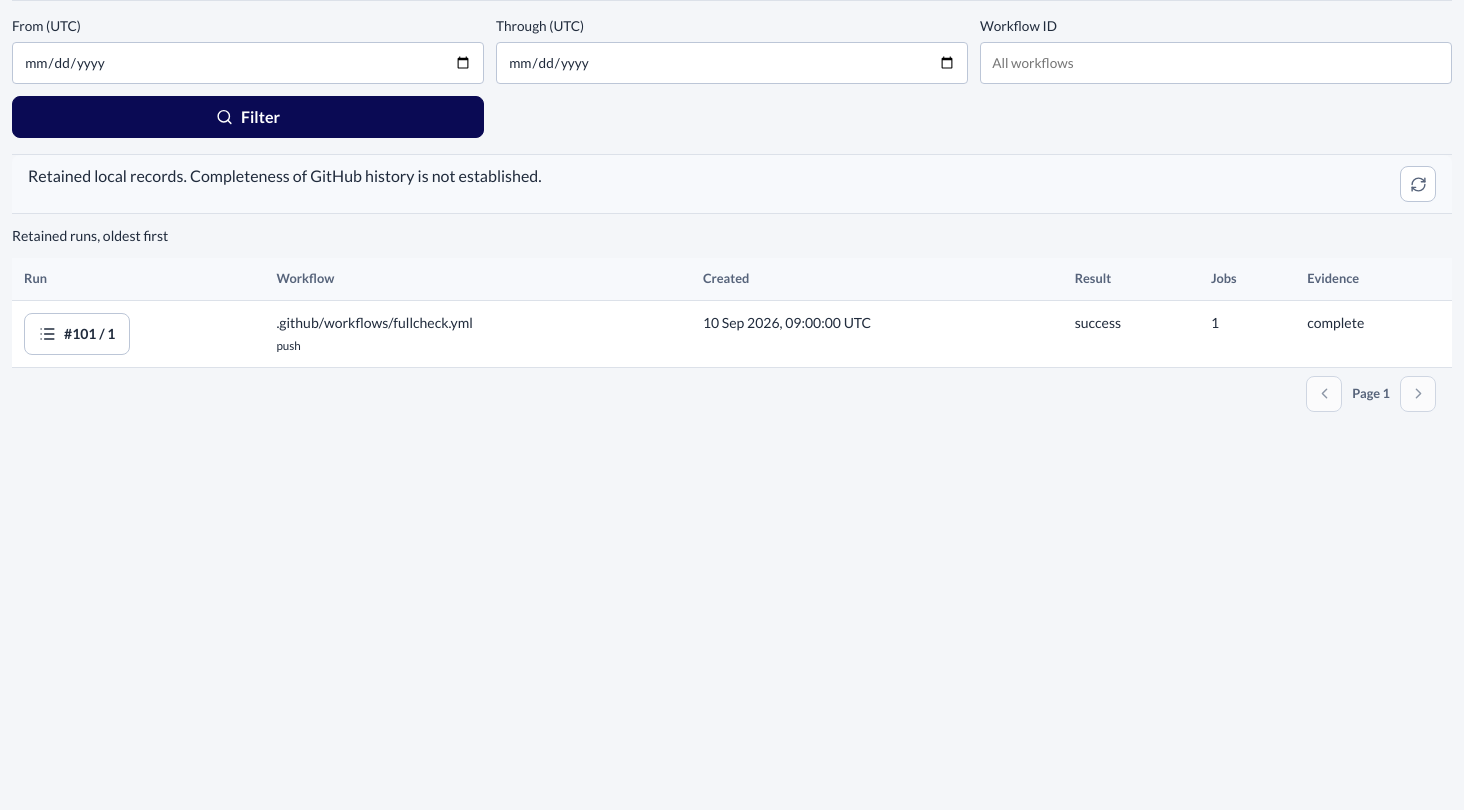
records drill down to job evidence without mutation; inactive reads stop
Click the button "#101 / 1": click(77, 334) x1=24 y1=313 x2=130 y2=355
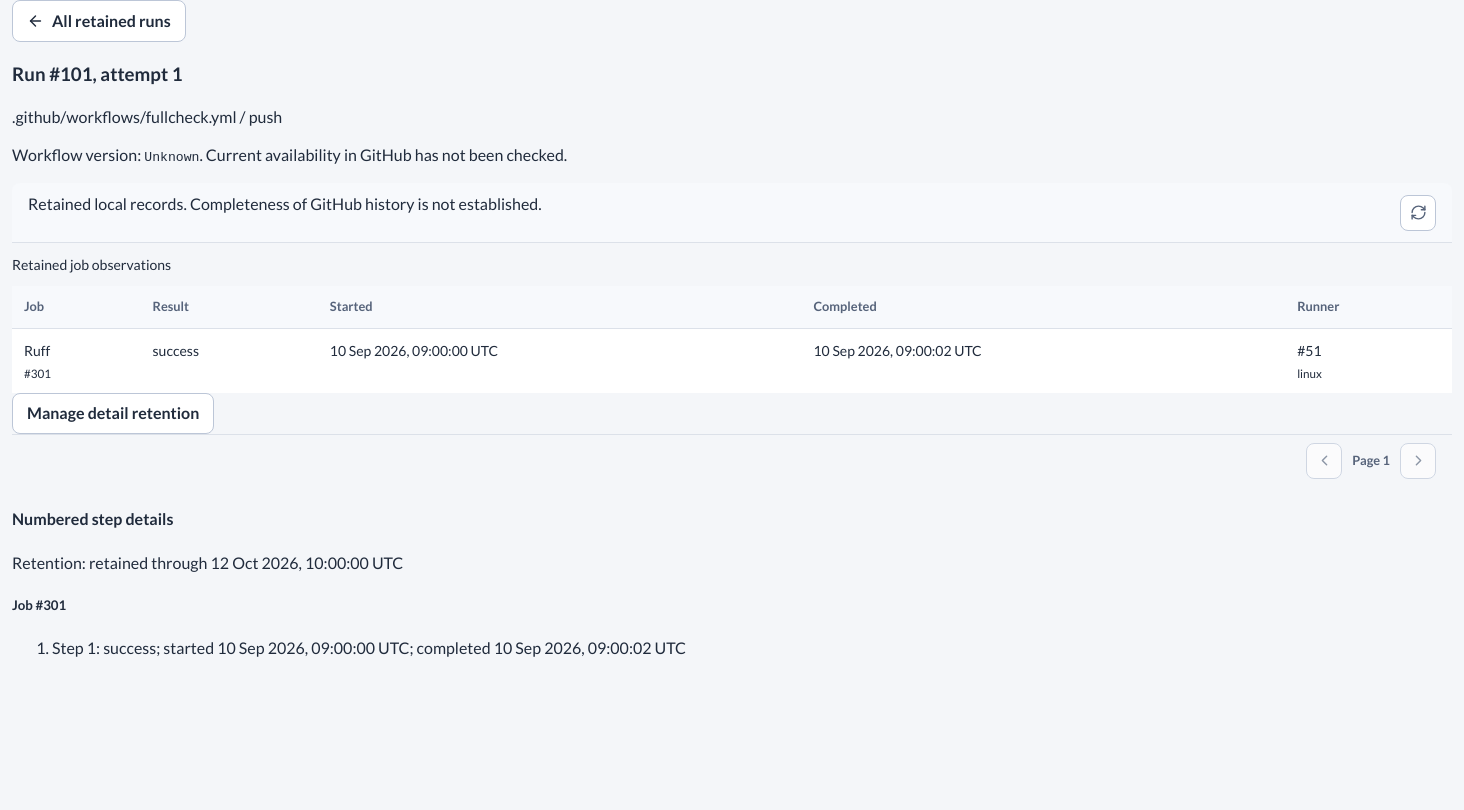
Result: the text "Ruff" is shown at x1=24 y1=342 x2=50 y2=359
Result: the list item "Step 1: success" is shown at x1=52 y1=638 x2=686 y2=657
Click the button "Manage detail retention": click(113, 413) x1=12 y1=393 x2=214 y2=434
(page scrolled)
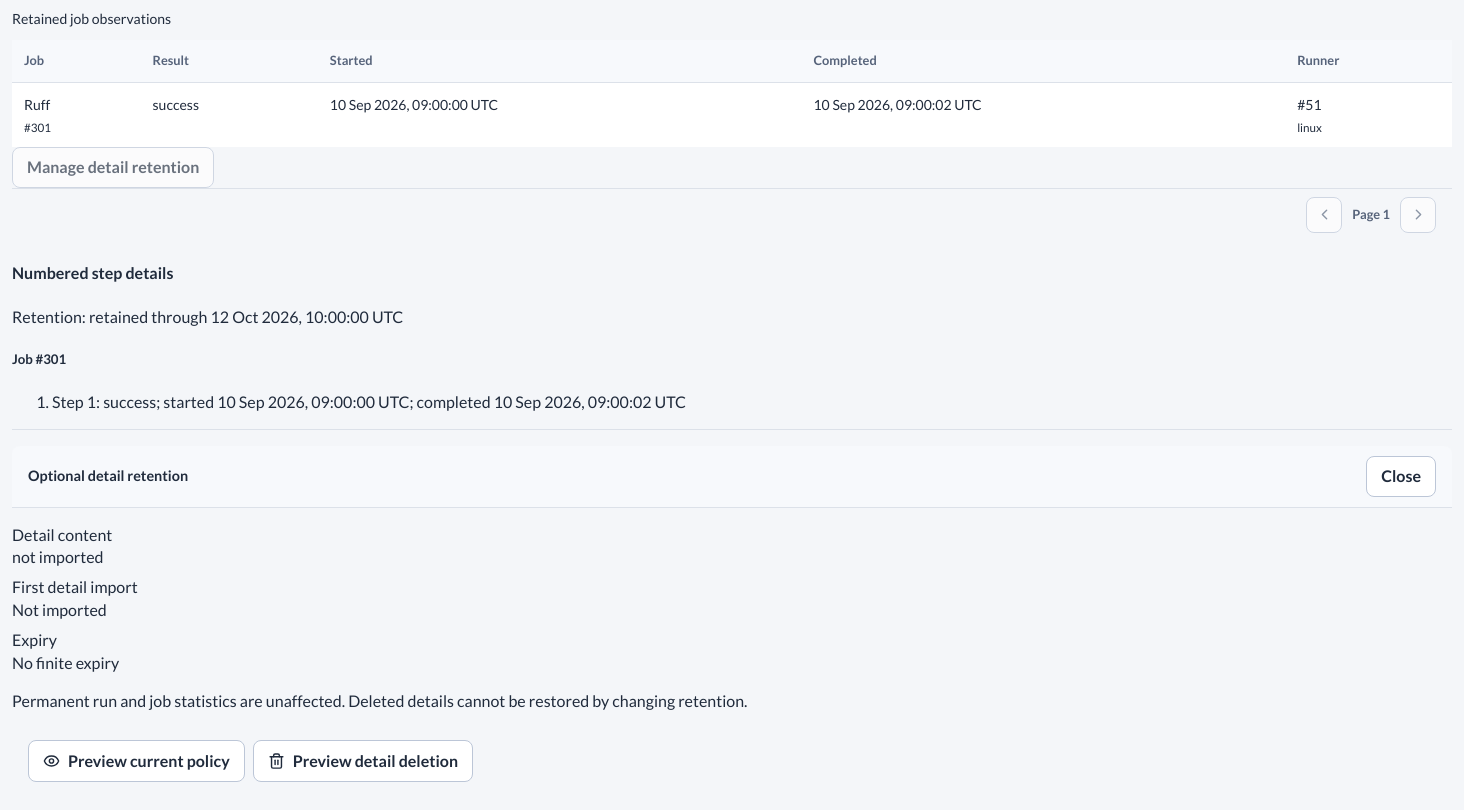
Result: the element "Optional detail retention" is shown at x1=12 y1=429 x2=1452 y2=809
